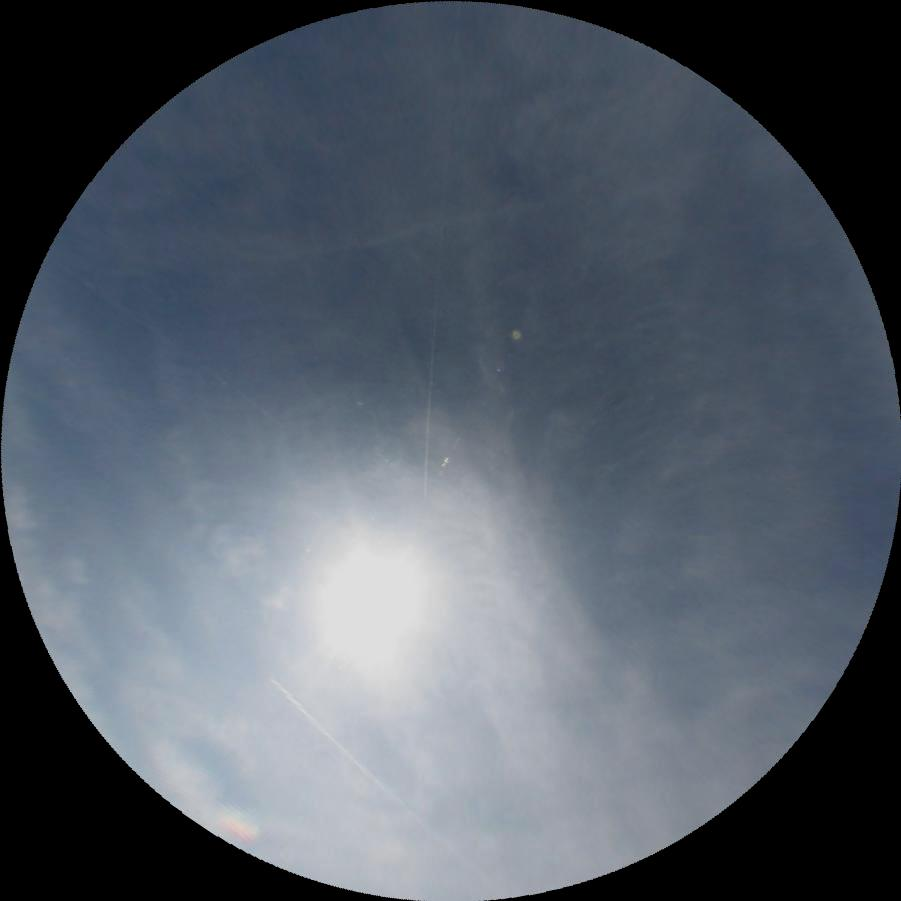contrail veryold: (111, 207, 519, 279)
contrail young: (270, 675, 417, 822), (420, 122, 451, 499)
sun: (301, 531, 437, 670)
